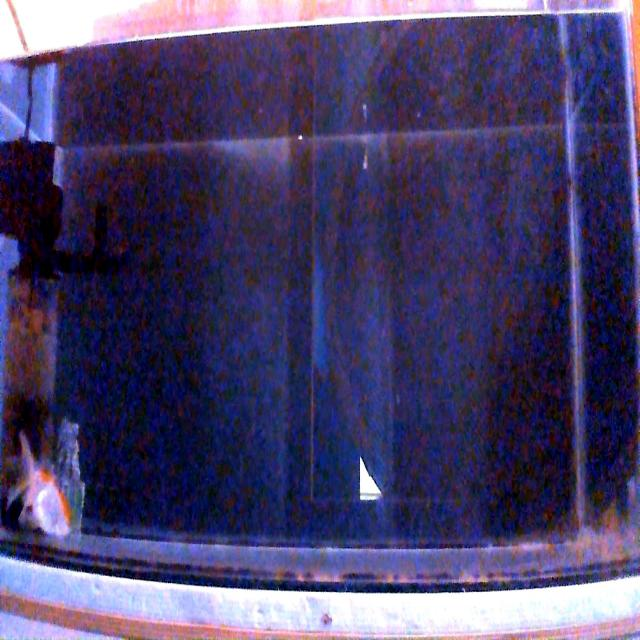fish: (5, 430, 74, 537)
